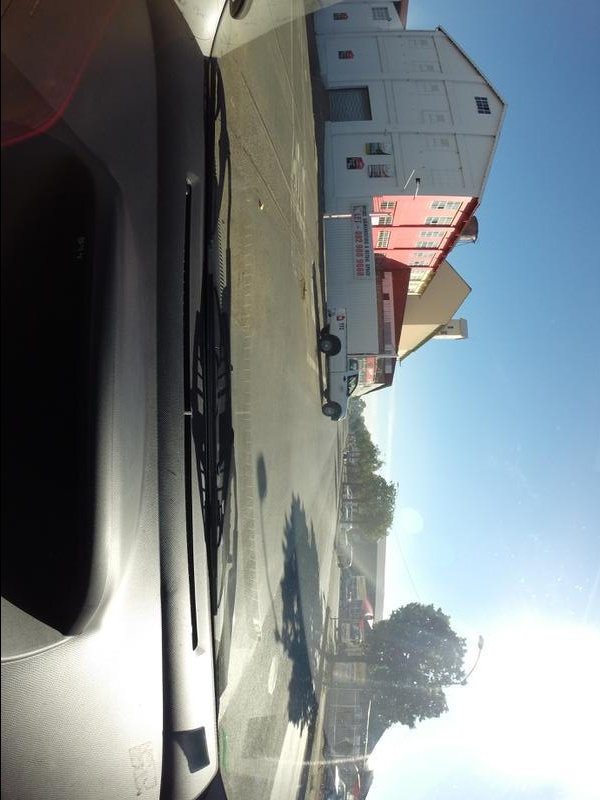pothole: (298, 276, 305, 303)
